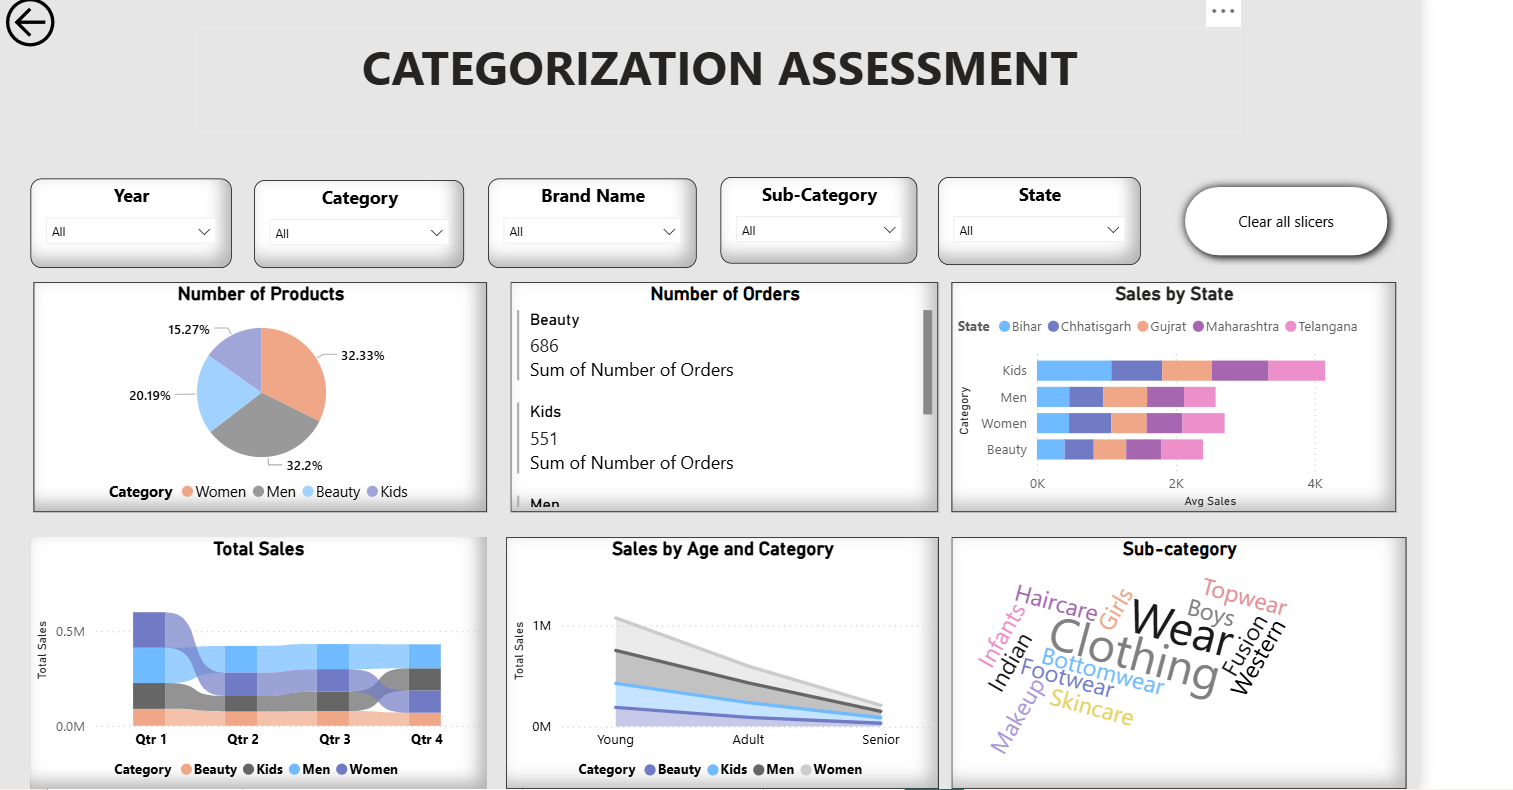

What the dashboard file says about the page in this screenshot:
{"tool":"powerbi","page":{"name":"Categorization Assessment","canvas":[1280,720],"ordinal":1},"visuals":[{"type":"textbox","box":[178.4,34.3,942.7,94.7],"z":0},{"type":"pieChart","title":"Number of Products","fields":{"Y":["CountNonNull(dim_products.Product ID)"],"Category":["dim_products.Category"]},"box":[31.6,262.1,408.9,207.2],"z":1000},{"type":"slicer","title":"Year","fields":{"Values":["Date Table.Year"]},"box":[28.8,168.8,181.1,81],"z":2000},{"type":"slicer","title":"Brand Name","fields":{"Values":["dim_products.Brand Name"]},"box":[440.5,168.8,188,81],"z":3000},{"type":"slicer","title":"Category","fields":{"Values":["dim_products.Category"]},"box":[229.2,170.2,189.4,79.6],"z":4000},{"type":"slicer","title":"Sub-Category","fields":{"Values":["dim_products.Sub-category"]},"box":[650.4,167.4,177,78.2],"z":5000},{"type":"slicer","title":"State","fields":{"Values":["Customers.State"]},"box":[846.7,167.4,182.5,79.6],"z":6000},{"type":"ribbonChart","title":"Total Sales","fields":{"Category":["Date Table.Date.Variation.Date Hierarchy.Quarter"],"Y":["Measures Myntra.Total Sales Amount"],"Series":["Products.Category"]},"box":[28.8,492.6,411.7,227.8],"z":7000},{"type":"stackedAreaChart","title":"Sales by Age and Category","fields":{"Category":["dim_customers.Age Category"],"Y":["Measures Myntra.Total Sales Amount"],"Series":["Products.Category"]},"box":[456.9,492.6,389.7,227.8],"z":8000},{"type":"multiRowCard","title":"Number of Orders","fields":{"Values":["dim_products.Category","dim_products.Number of Orders"]},"box":[461.1,262.1,385.6,207.2],"z":9000},{"type":"actionButton","box":[1059.4,167.4,200.3,79.6],"z":10000},{"type":"WordCloud1447959067750","fields":{"Category":["dim_products.Sub-category"]},"box":[859,492.6,410.3,227.8],"z":11000},{"type":"actionButton","box":[0,0,116.6,56.3],"z":12000},{"type":"barChart","title":"Sales by State","fields":{"Series":["Customers.State"],"Y":["Measures Myntra.Avg Sales"],"Category":["Products.Category"]},"box":[859,262.1,400.7,207.2],"z":13000}]}

Visuals, with their boxes on the page's 1280x720 design canvas (x1, y1, x2, y2). These are canvas units, not pixel positions in the 1513x790 screenshot, which may show the page scaled, cropped or inside an application window:
textbox: 178/34/1121/129
"Number of Products" pieChart: 32/262/440/469
"Year" slicer: 29/169/210/250
"Brand Name" slicer: 440/169/628/250
"Category" slicer: 229/170/419/250
"Sub-Category" slicer: 650/167/827/246
"State" slicer: 847/167/1029/247
"Total Sales" ribbonChart: 29/493/440/720
"Sales by Age and Category" stackedAreaChart: 457/493/847/720
"Number of Orders" multiRowCard: 461/262/847/469
actionButton: 1059/167/1260/247
WordCloud1447959067750 - dim_products.Sub-category: 859/493/1269/720
actionButton: 0/0/117/56
"Sales by State" barChart: 859/262/1260/469
